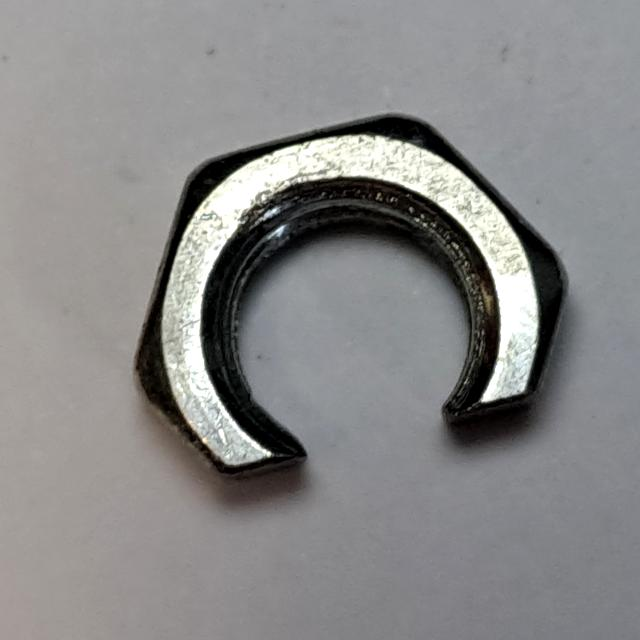Fracture: (117, 102, 581, 506)
